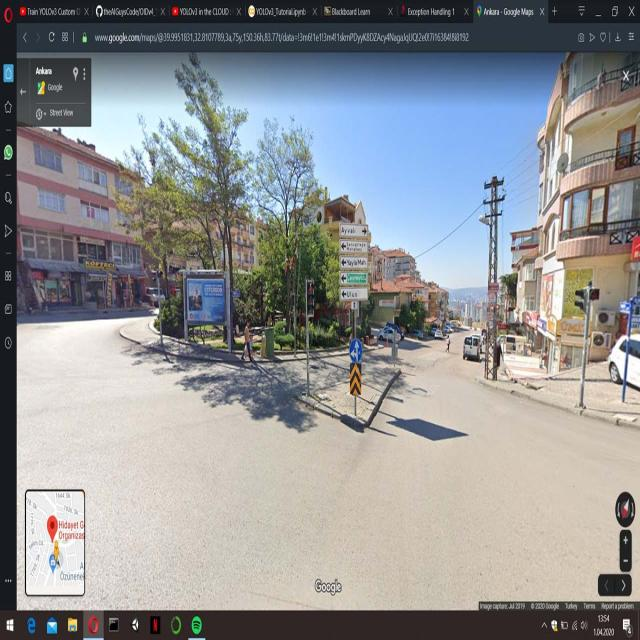ilerisol: (348, 339, 362, 360)
kirmizi: (306, 279, 315, 318)
